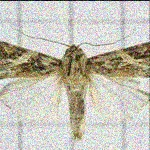Spodoptera litura: (0, 27, 149, 142)
